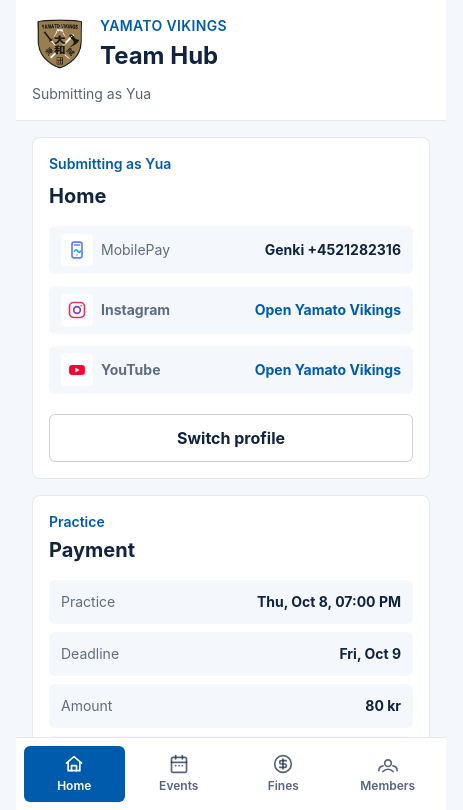
Test: App shell › allows Yua to create events and manage event guests without full Admin controls
The image size is (463, 810).
Click the link "Events": click(179, 774) [159,754,198,793]
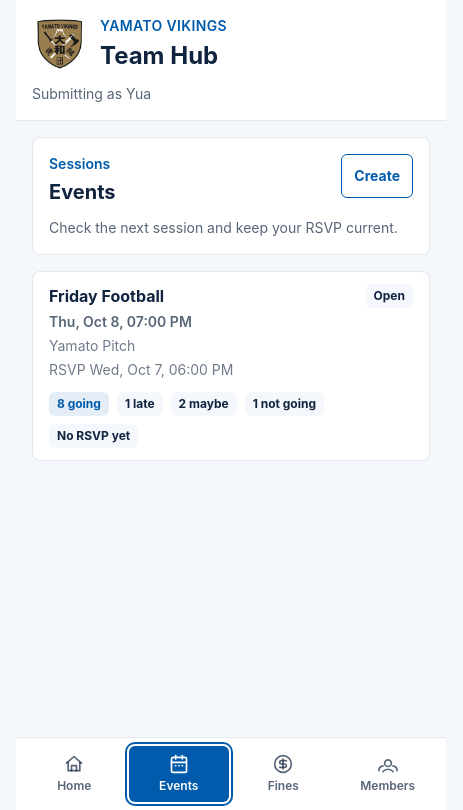
Result: the button "Create" is shown at [341,154,413,198]
Click the link "Friday Football": click(231, 366) [33,272,429,460]
(page scrolled)
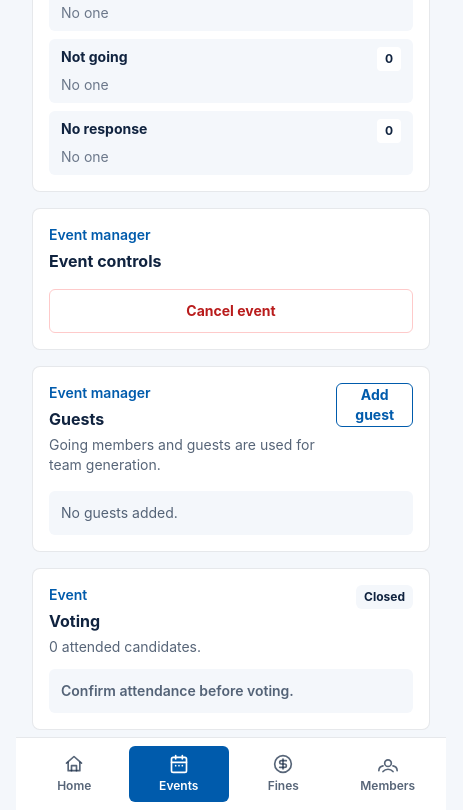
Result: the button "Cancel event" is shown at [49,289,413,333]
Result: the button "Add guest" is shown at [336,383,413,427]
